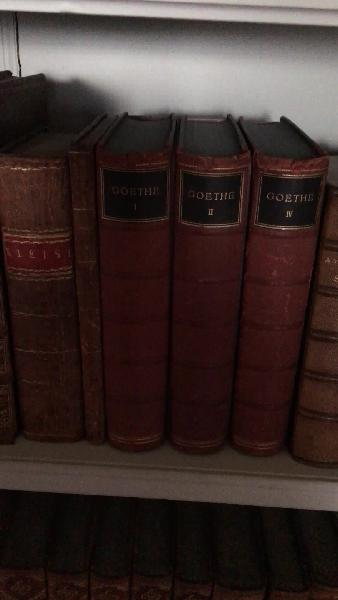Aa6-10: (63, 140, 109, 449)
Aa6-11_13: (97, 150, 327, 463)
Aa6-9: (2, 150, 86, 451)
